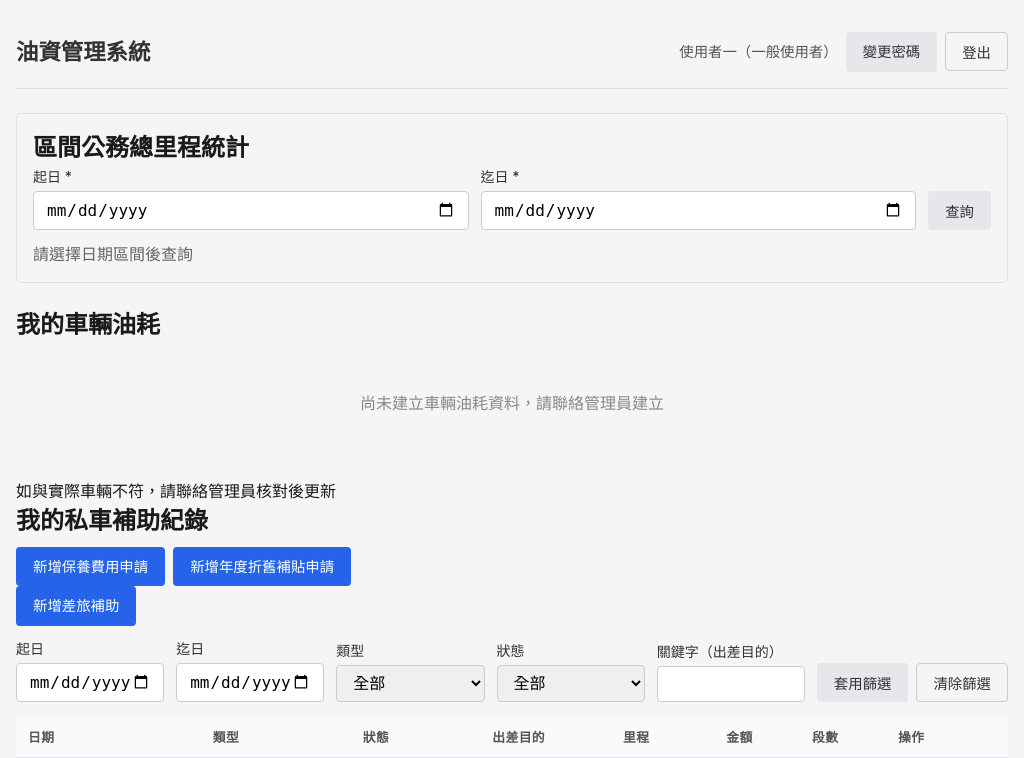
Scenario: HomePage — MileageSummarySection 嵌入（D6(a) 共用元件） › AC-30 鑑別力：統計端點回 999.99、申請列表 3 筆合計 30.00 → 畫面顯示 999.99（前端不自算）
Type "2026-03-01" into the date field labelled "起日 *". click: (251, 210)
box: [33,191,469,230]
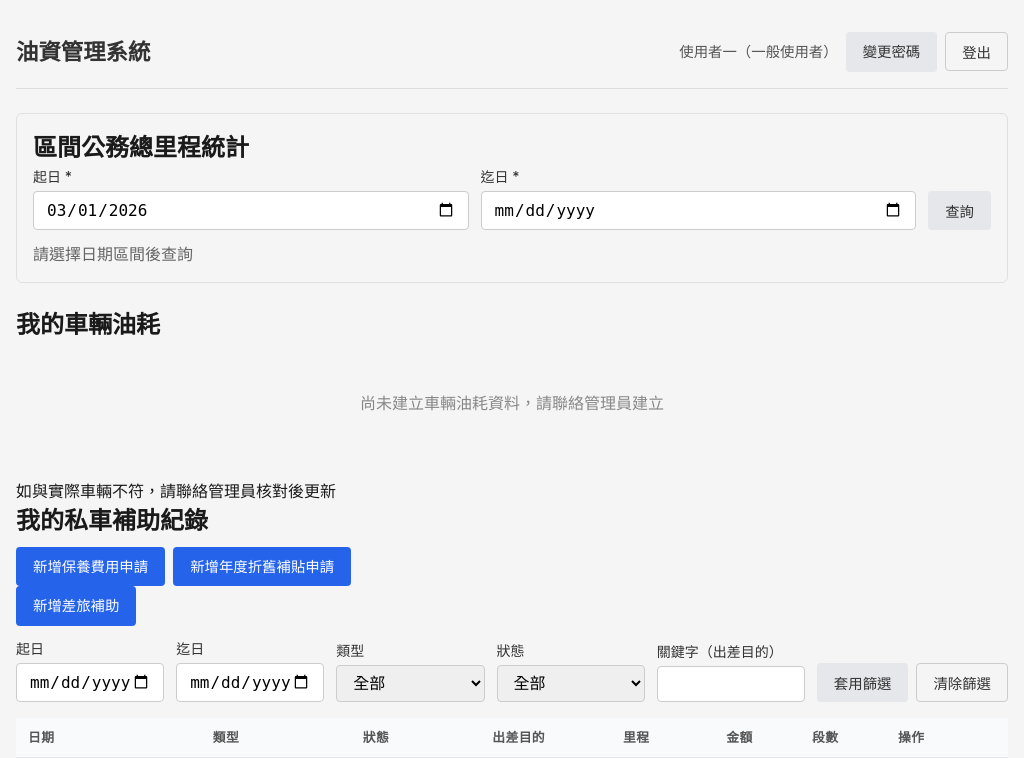
Type "2026-03-31" into the date field labelled "迄日 *". click: (698, 210)
box: [481,191,916,230]
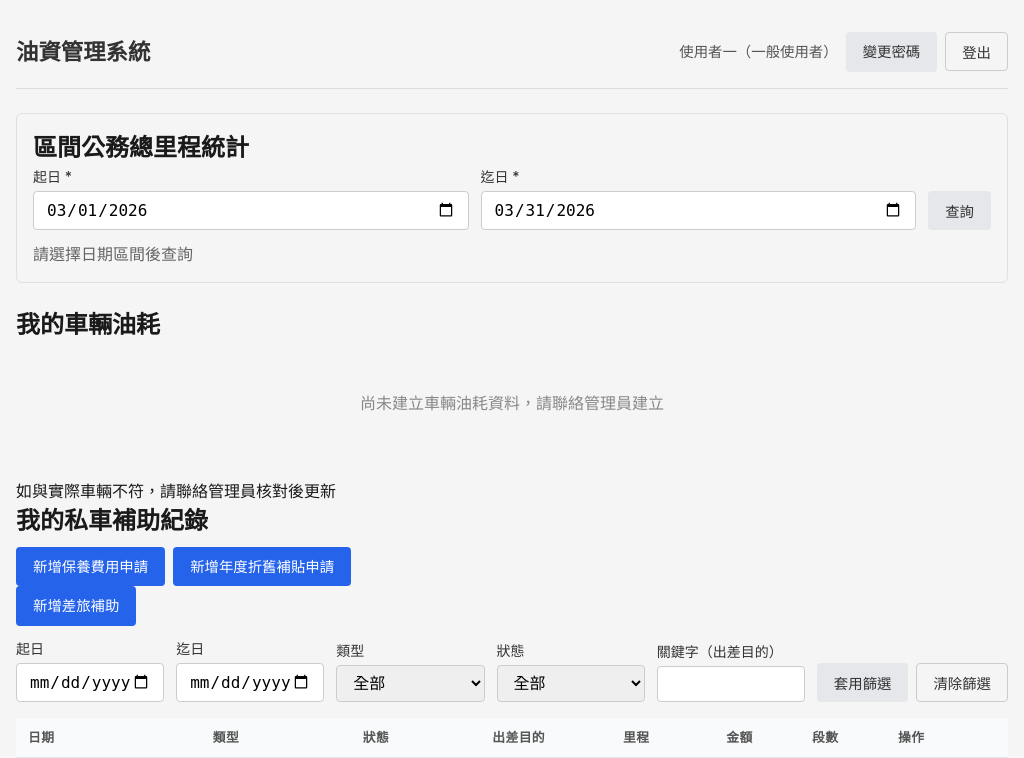
Click the button "查詢". click: (960, 210)
box: [928,191,991,230]
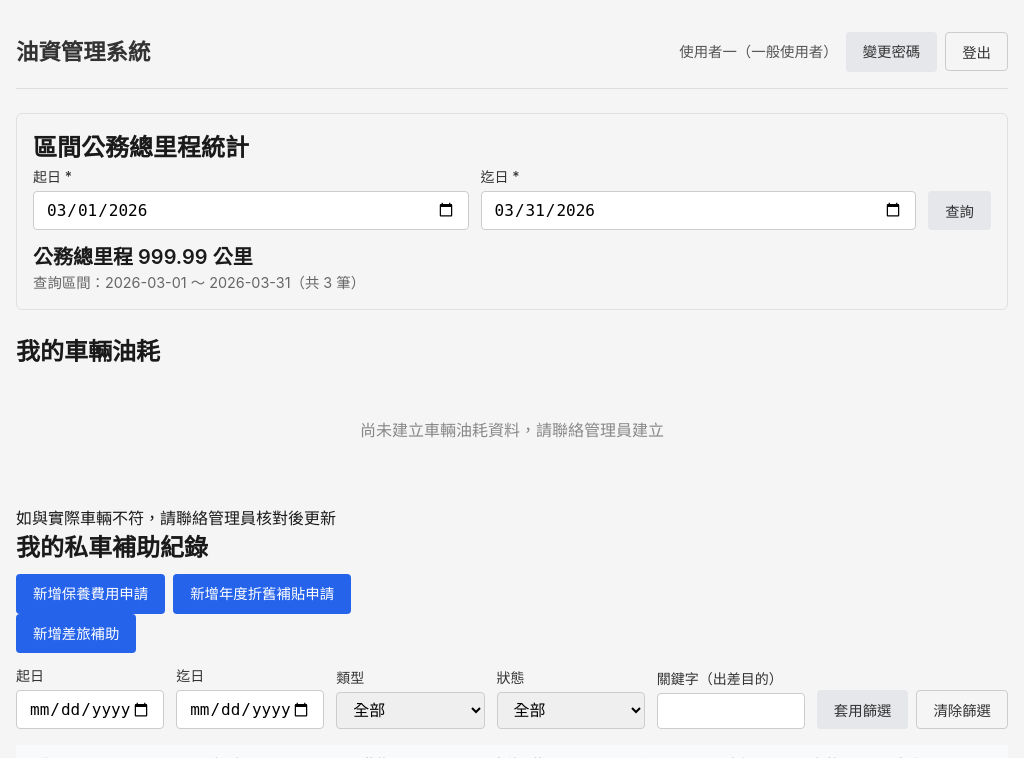
Check: the text "公務總里程 999.99 公里" is shown, box [33,245,253,269]
